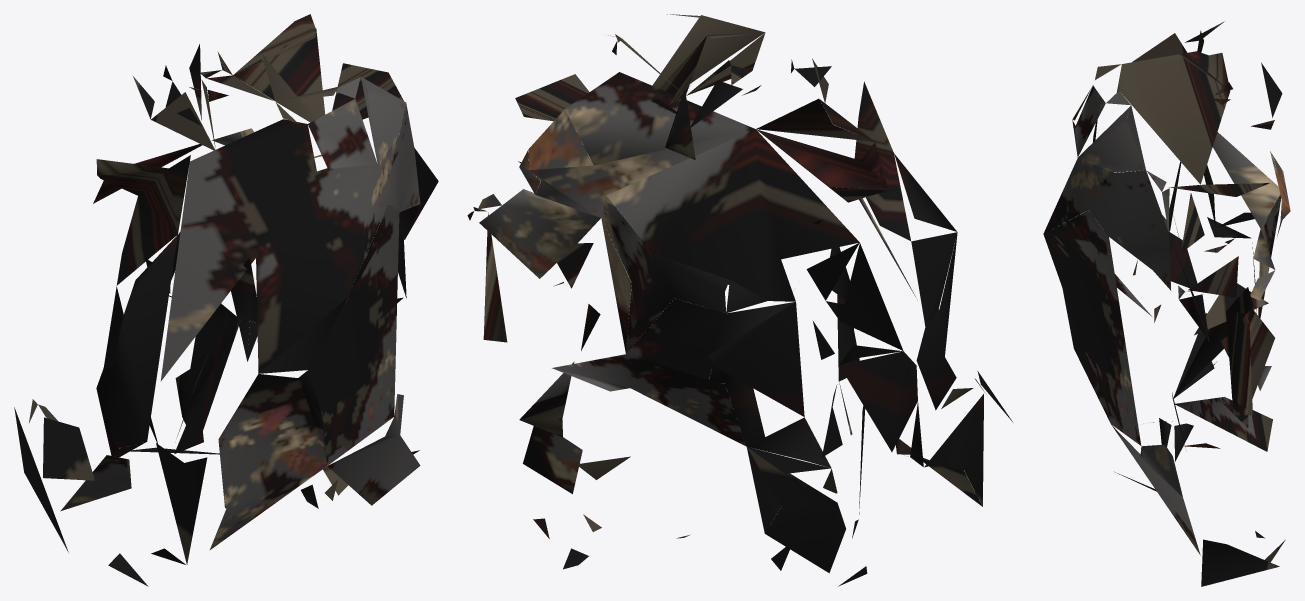
3 renders of one model, left to right at view 1: azimuth 30°, elevation 25°; view 2: azimuth 150°, elevation 25°; view 3: azimuth 270°, elevation 25°, orthographic. The views are drawn at different scales.
Visible parts, largest first — view 1: body.002; view 2: body.002; view 3: body.002.
Boxes of the visible parts, x1=… form: body.002: x1=14, y1=14, x2=438, y2=586; body.002: x1=467, y1=14, x2=1012, y2=586; body.002: x1=1043, y1=21, x2=1290, y2=586.
Size of the model in its own units: 1.82 by 1.94 by 0.9408.
Materials: 1 (1 with a texture image).
